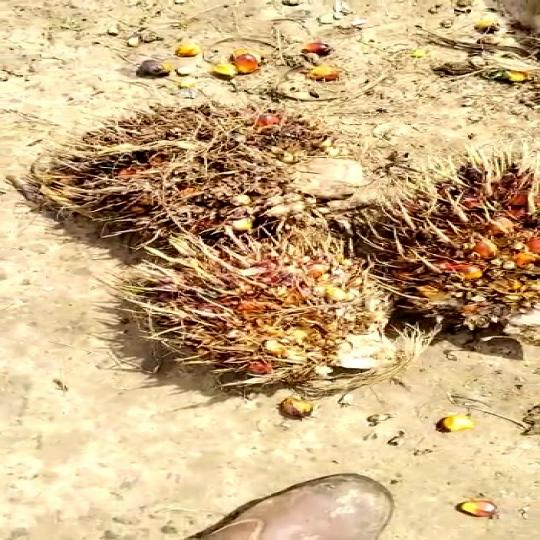terlalu masak: (98, 216, 397, 393), (13, 103, 364, 242), (353, 159, 540, 347)
